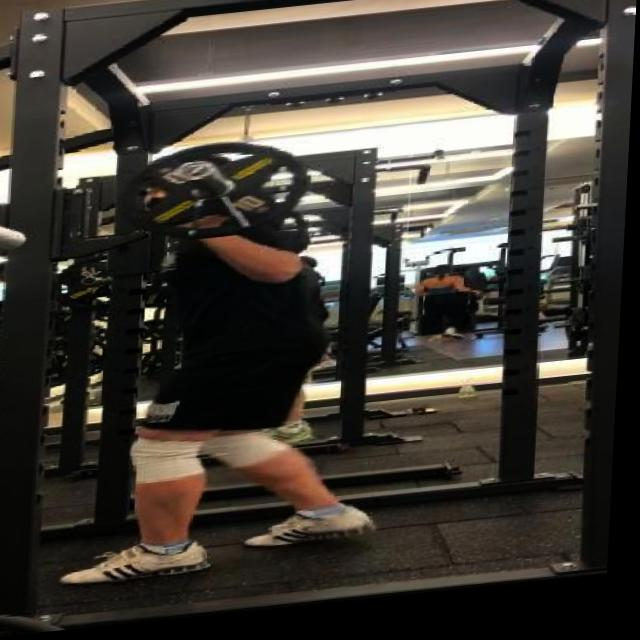barbell: (117, 137, 318, 257)
